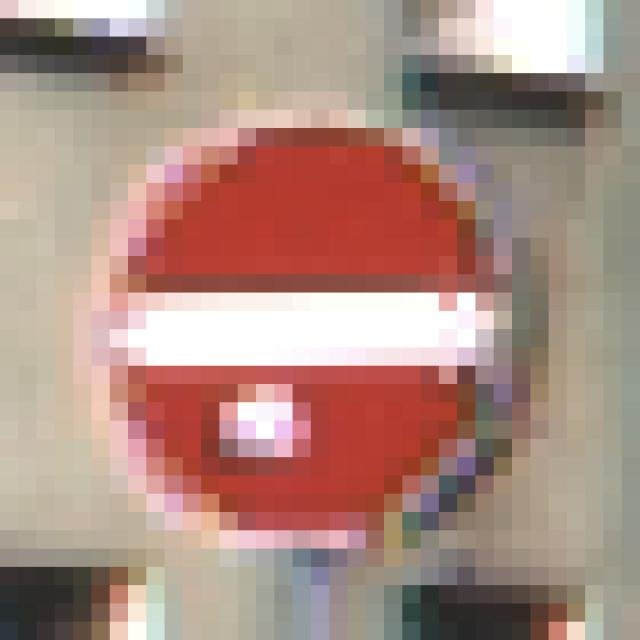No Entry: (111, 111, 550, 550)
